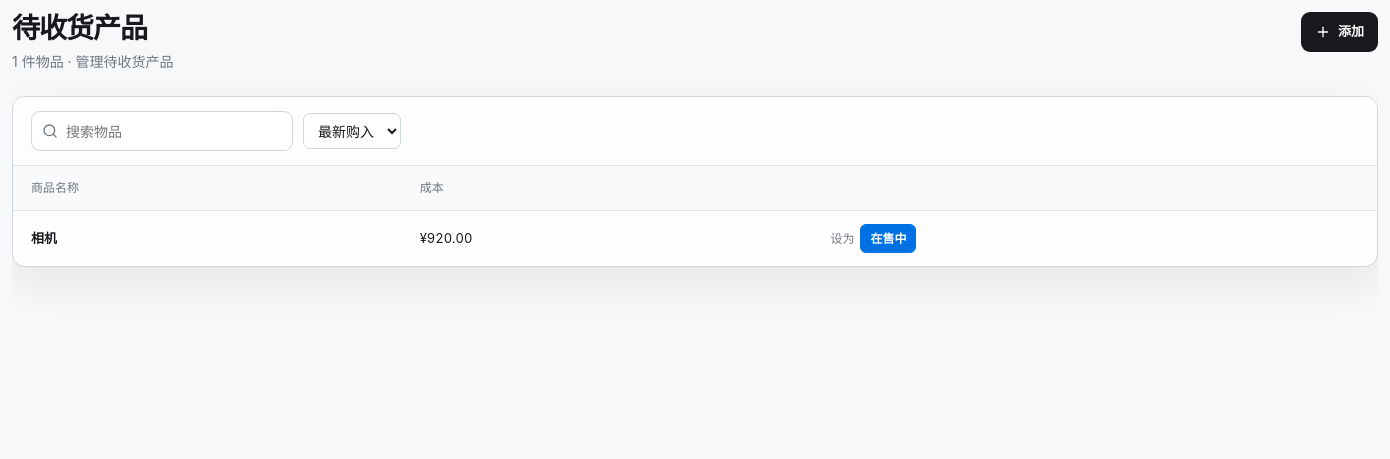
SelfUsePage › marks a pending receipt item as listed and removes it from the page
The image size is (1390, 459).
Click the button with aria-label "设置 相机 为在售中" at point(888, 238), box [860,224,916,253]
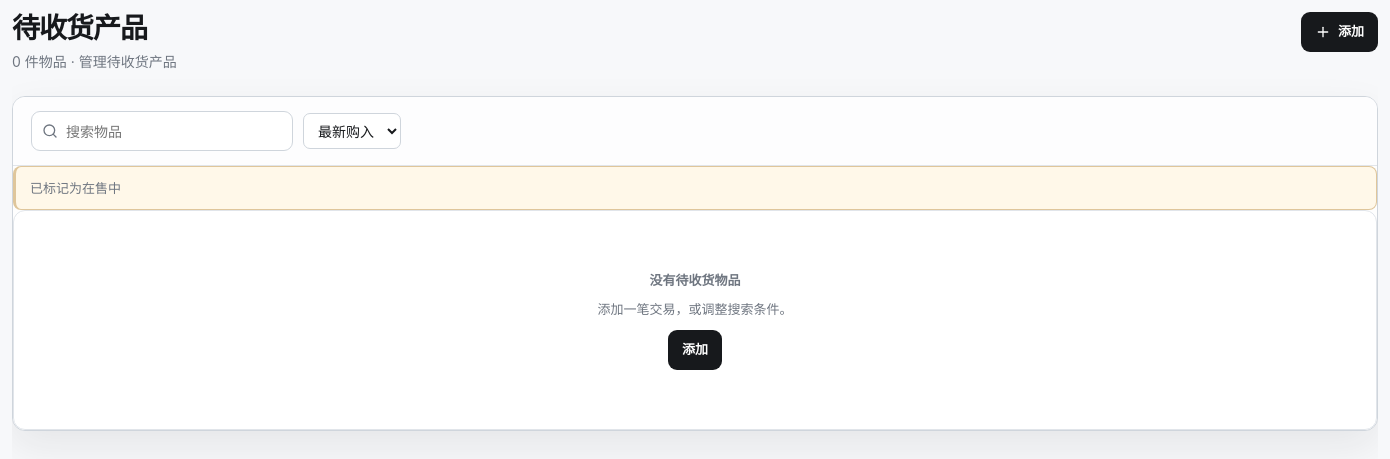
Check: the button "相机" is gone
